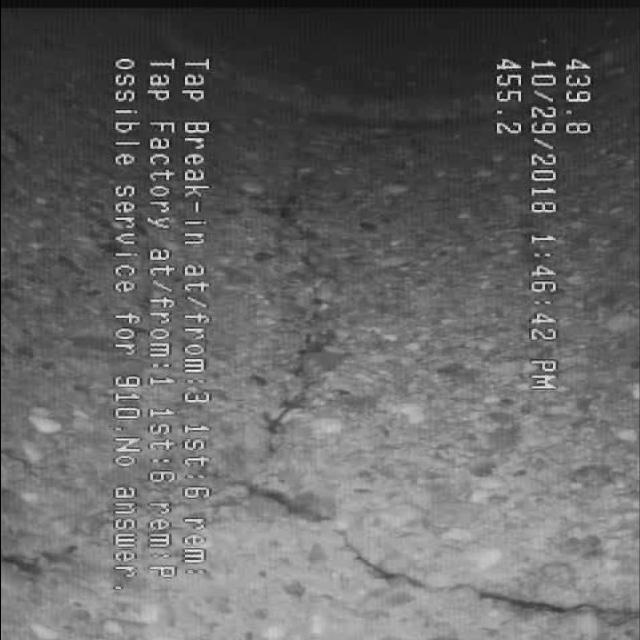Crack: (242, 440, 607, 622)
